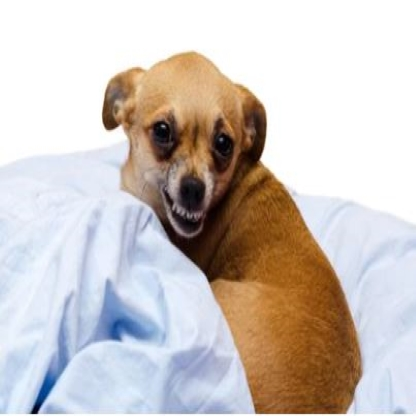chihuahua: (101, 48, 362, 412)
